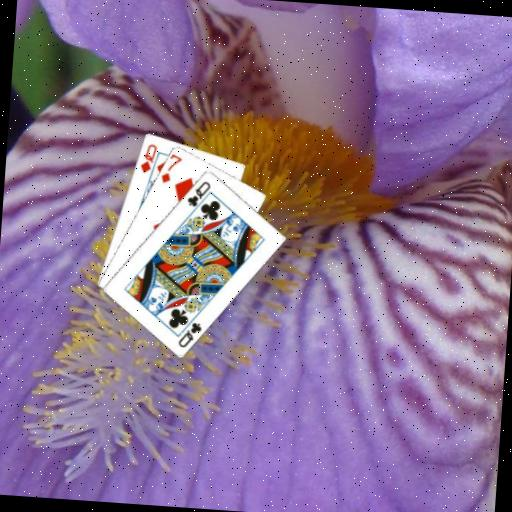7D: (158, 151, 184, 186)
QC: (184, 177, 213, 210), (175, 318, 204, 350)
QD: (137, 140, 159, 175)
